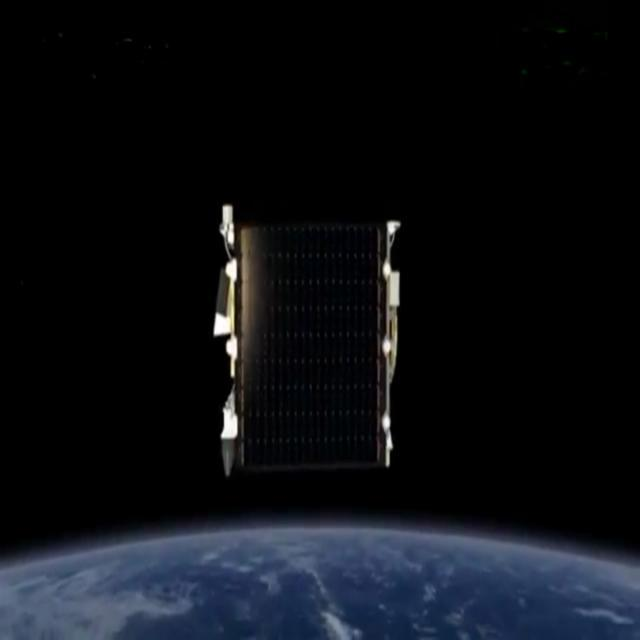sat: (206, 178, 416, 493)
